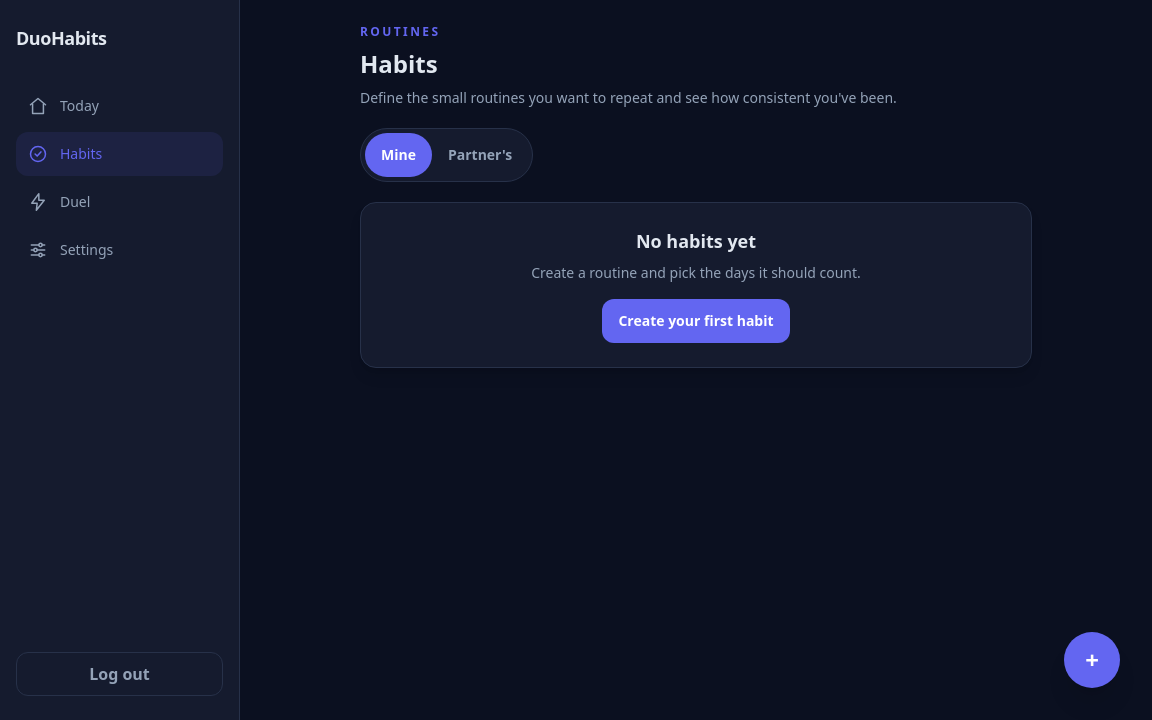
HabitsPage › shows the mine and partner empty states
The width and height of the screenshot is (1152, 720).
Expected: the heading "Habits" is shown, [360,47,438,80]
Expected: the heading "No habits yet" is shown, [636,229,756,253]
Click the button "Partner's" at (480, 155), box [432,133,528,177]
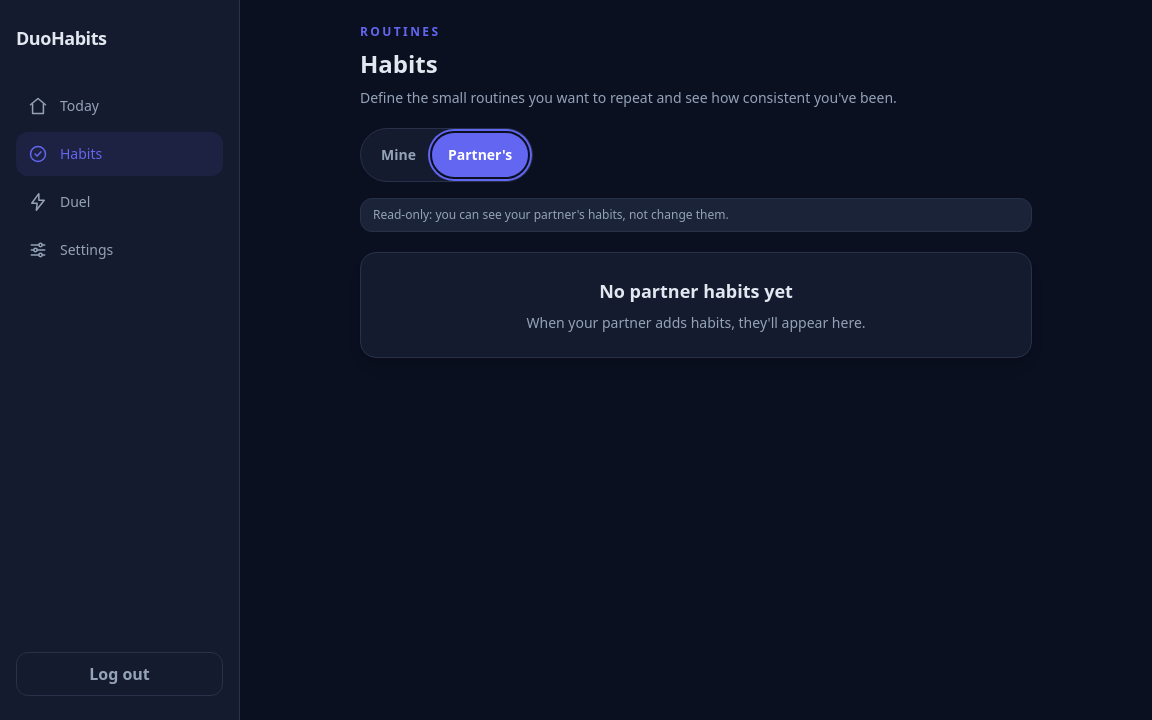
Now the heading "No partner habits yet" is shown, box [599,279,793,303]
Now the text "When your partner adds habits, they'll appear here." is shown, box [526,313,866,332]
Now the link "Create your first habit" is gone
